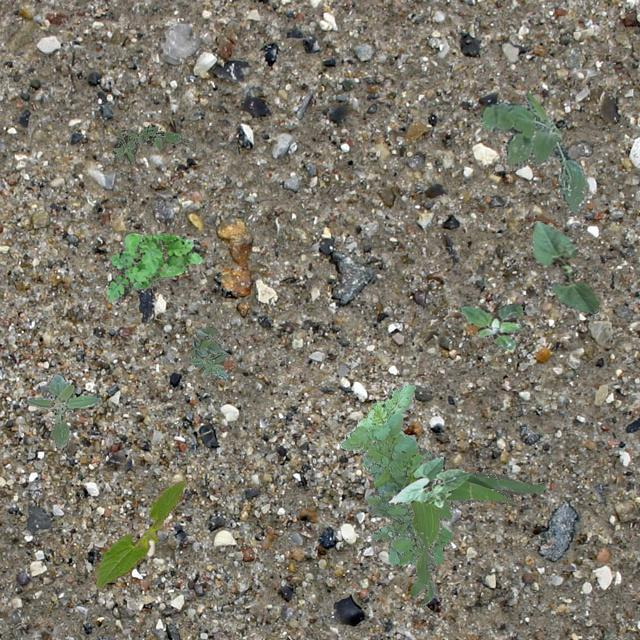crop: (94, 479, 184, 586), (532, 220, 598, 312), (388, 456, 468, 506)
weed: (338, 384, 452, 566), (404, 468, 544, 606), (480, 92, 586, 214), (106, 232, 202, 306), (26, 372, 100, 446), (112, 122, 195, 164), (458, 302, 522, 350), (188, 322, 228, 380)
